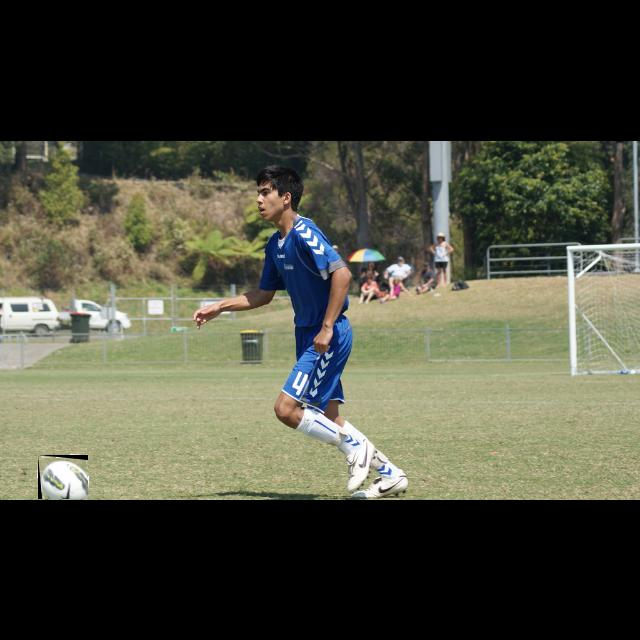Football: (38, 455, 88, 499)
